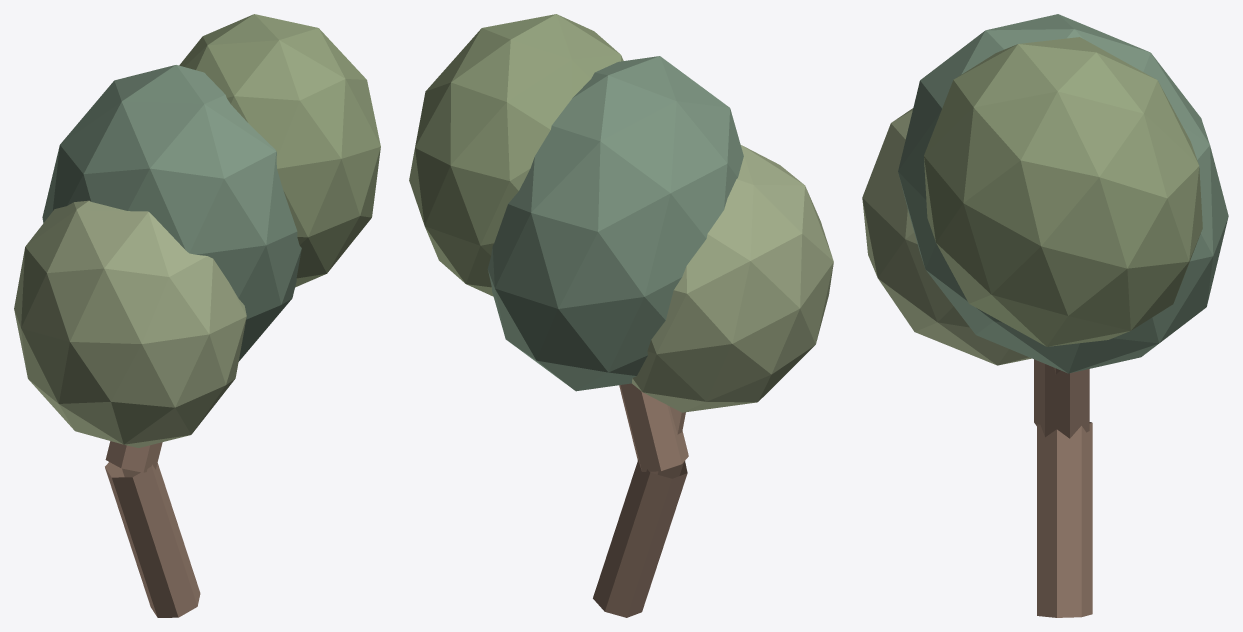
The picture shows the model from 3 angles, left to right: view 1: azimuth 30°, elevation 25°; view 2: azimuth 150°, elevation 25°; view 3: azimuth 270°, elevation 25°; orthographic projection. The views are drawn at different scales.
Parts seen in each view (by area): view 1: T23; view 2: T23; view 3: T23.
Boxes of the visible parts, bbox=[...] form: T23: bbox=[14, 14, 380, 617]; T23: bbox=[409, 14, 833, 617]; T23: bbox=[862, 14, 1228, 617].
Size of the model in its own units: 1.41 by 2.11 by 1.13.
